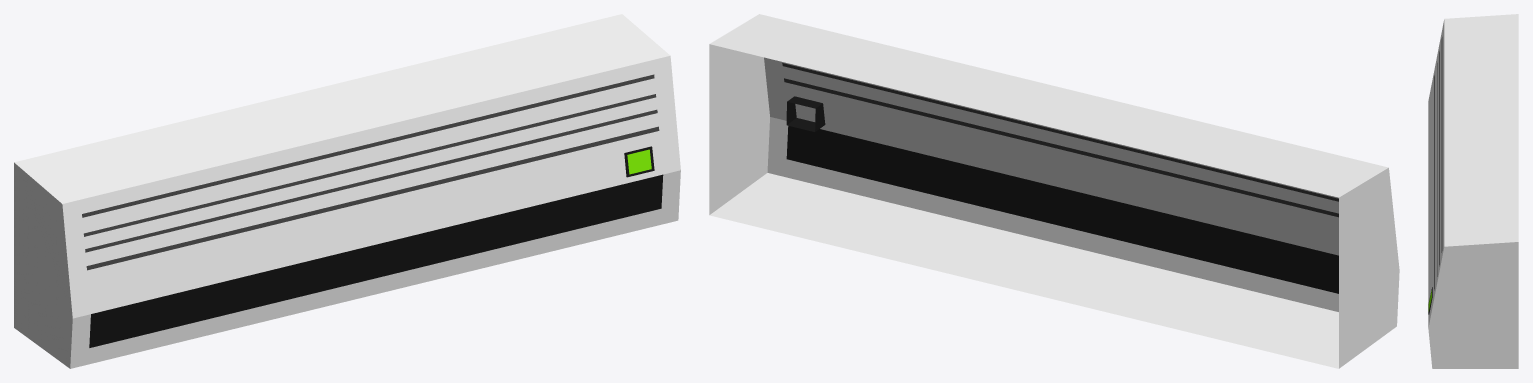
3 views of the same model, side by side, from view 1: azimuth 30°, elevation 25°; view 2: azimuth 150°, elevation 25°; view 3: azimuth 270°, elevation 25° (orthographic). The views are drawn at different scales.
Visible parts, largest first — view 1: polySurface1846; view 2: polySurface1846; view 3: polySurface1846.
Part boxes in pixels (x1,y1,x2,y2): polySurface1846: [14, 14, 680, 368]; polySurface1846: [709, 14, 1399, 368]; polySurface1846: [1428, 14, 1518, 368].
Size of the model in its own units: 2.5 by 0.65 by 0.418.
Materials: 1 (1 with a texture image).
